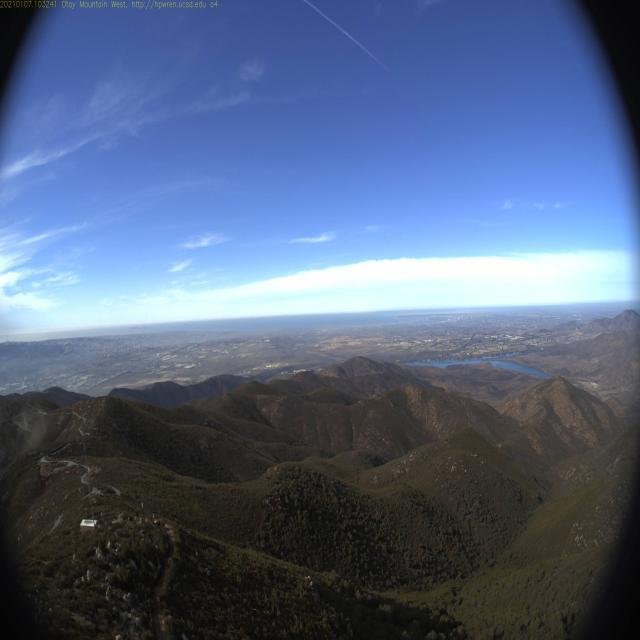smoke: (536, 314, 552, 332)
